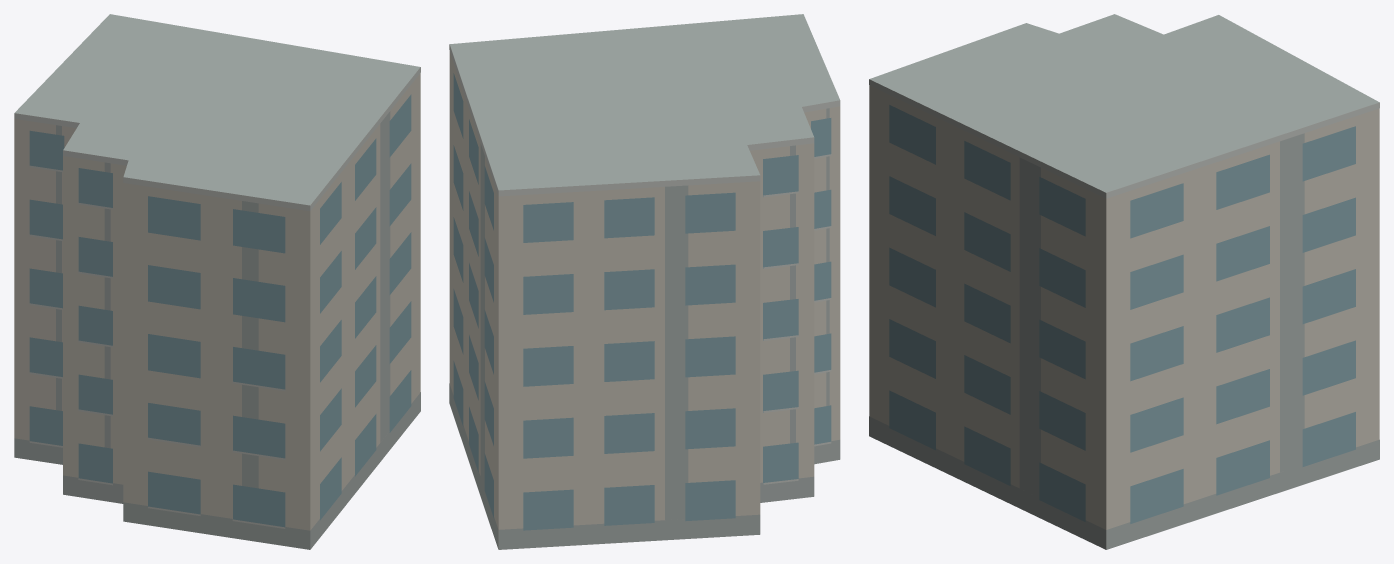
File: survey-upis-32838197.glb
3 renders of one model, left to right at view 1: azimuth 30°, elevation 25°; view 2: azimuth 150°, elevation 25°; view 3: azimuth 270°, elevation 25°, orthographic. The views are drawn at different scales.
Visible parts, largest first — view 1: survey-upis-32838197.tmp; view 2: survey-upis-32838197.tmp; view 3: survey-upis-32838197.tmp.
Boxes of the visible parts, x1=… form: survey-upis-32838197.tmp: x1=14, y1=14, x2=420, y2=549; survey-upis-32838197.tmp: x1=449, y1=14, x2=840, y2=549; survey-upis-32838197.tmp: x1=869, y1=14, x2=1379, y2=549.
Bounding box in the file's own units: 15.69 × 14.6 × 18.93.
